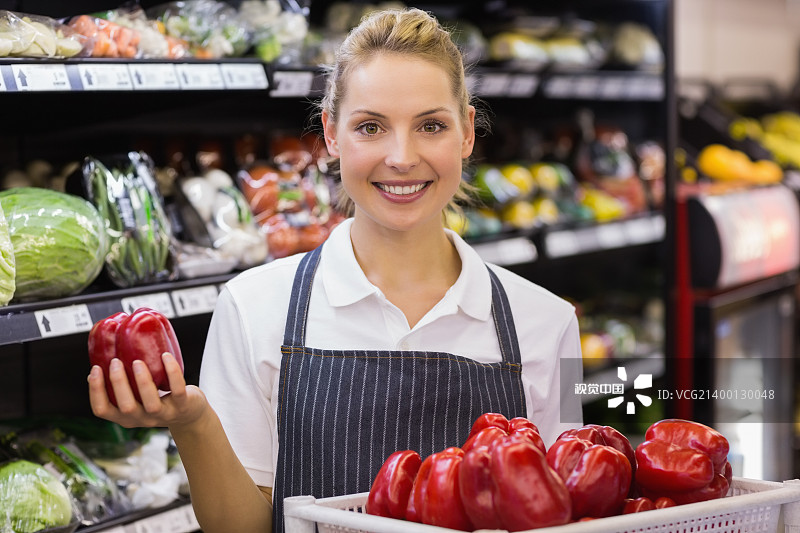no-phone: (58, 326, 220, 443)
